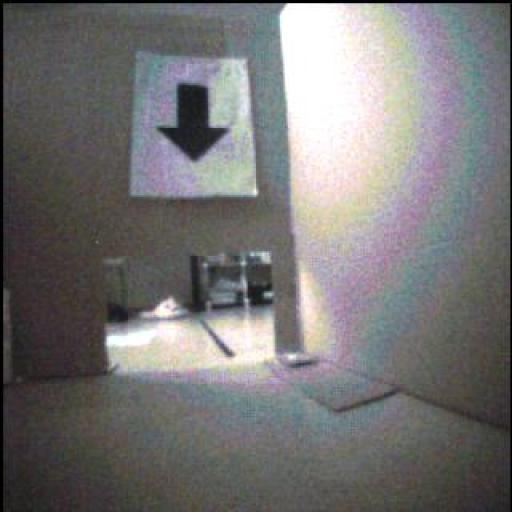arrow: (158, 84, 230, 161)
